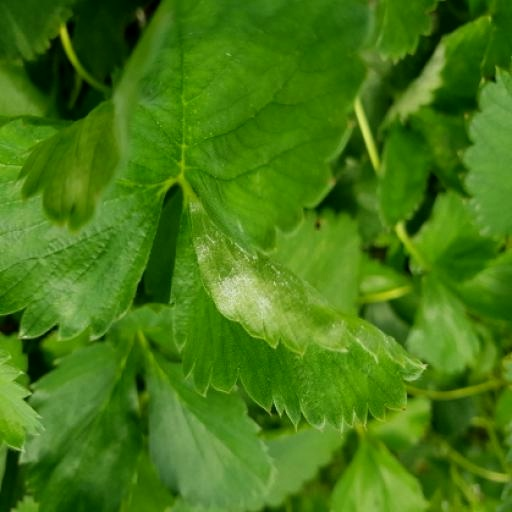Powdery Mildew Leaf: (81, 76, 342, 329)
